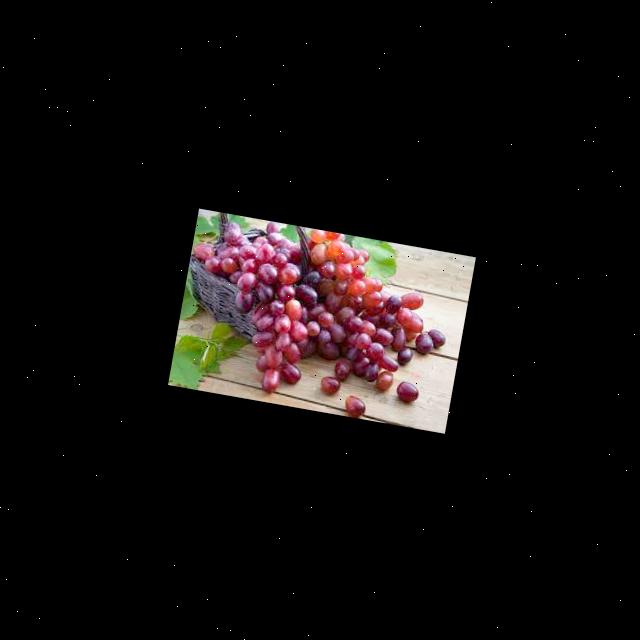grape: (170, 208, 460, 422)
